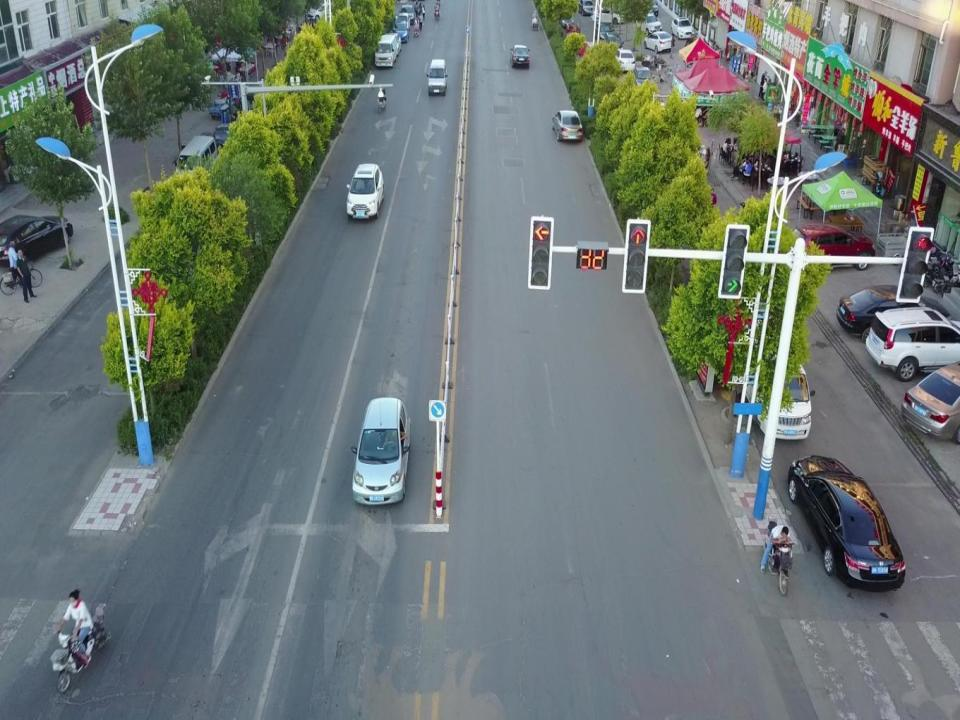bus: (375, 35, 399, 68)
car: (790, 454, 906, 586), (867, 308, 960, 372), (838, 293, 954, 334), (893, 369, 960, 438), (791, 223, 876, 270), (0, 212, 73, 262), (346, 162, 382, 220), (552, 108, 582, 143), (213, 124, 247, 149), (633, 12, 664, 31), (644, 31, 675, 50), (671, 17, 695, 39), (592, 8, 624, 24), (308, 3, 336, 21), (630, 67, 655, 87), (615, 48, 635, 69), (557, 2, 575, 25), (599, 30, 621, 48), (511, 45, 528, 67), (392, 22, 408, 42), (632, 0, 658, 12), (399, 4, 413, 23), (394, 12, 410, 28), (594, 22, 612, 36)
truck: (744, 323, 810, 439)
van: (351, 398, 406, 504), (174, 135, 217, 177), (428, 60, 447, 98), (579, 0, 593, 15)
